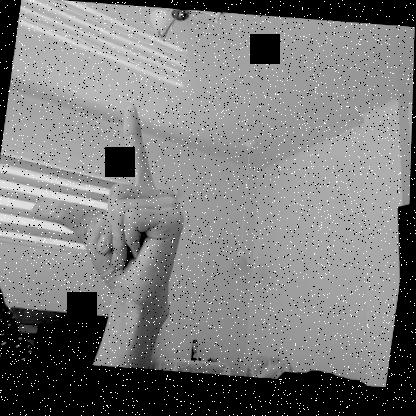L: (22, 93, 200, 311)
